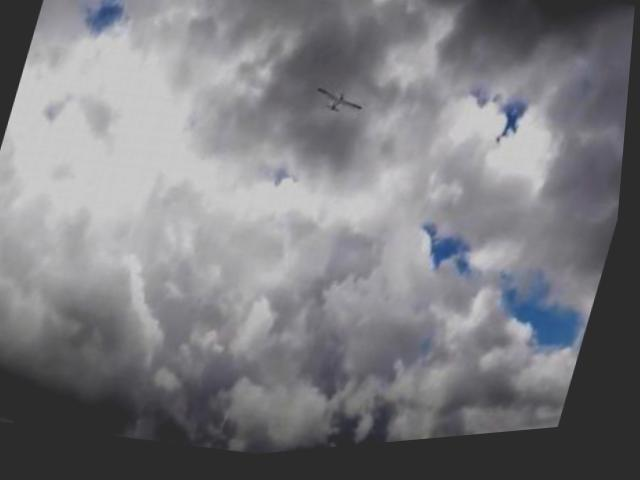iha: (308, 87, 376, 134)
